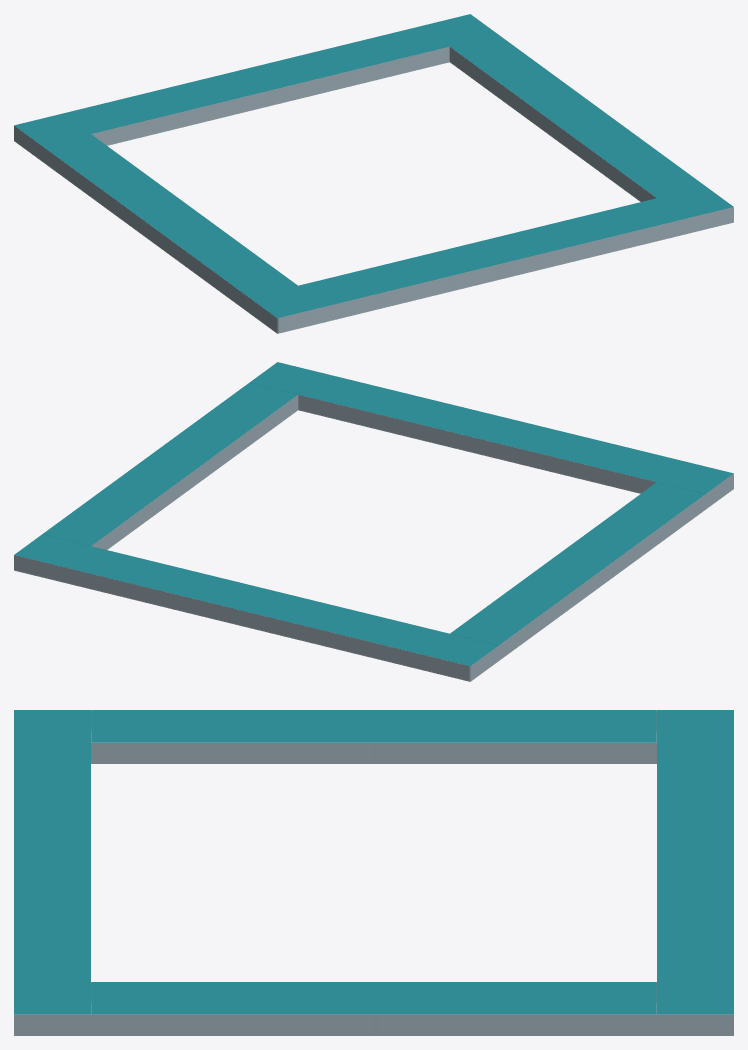
Rendered from tt_leisure_river.glb.
3 views of the same model, one above another, from view 1: azimuth 30°, elevation 25°; view 2: azimuth 150°, elevation 25°; view 3: azimuth 270°, elevation 25° (orthographic). The views are drawn at different scales.
Parts seen in each view (by area): view 1: Water_Opaque, River_Lining, River_Floor; view 2: Water_Opaque, River_Lining, River_Floor; view 3: Water_Opaque, River_Lining, River_Floor.
Boxes of the visible parts, box(x1,y1,x2,y2) form: Water_Opaque: box(14, 14, 733, 318); River_Lining: box(14, 46, 733, 333); River_Floor: box(14, 61, 733, 333); Water_Opaque: box(14, 362, 733, 666); River_Lining: box(14, 394, 733, 681); River_Floor: box(14, 409, 733, 681); Water_Opaque: box(14, 710, 733, 1014); River_Lining: box(14, 710, 733, 1034); River_Floor: box(14, 731, 733, 1035).
Size of what is drawn, in the model's own units: 28 by 0.92 by 28.
Materials: 2 (1 with a texture image).
